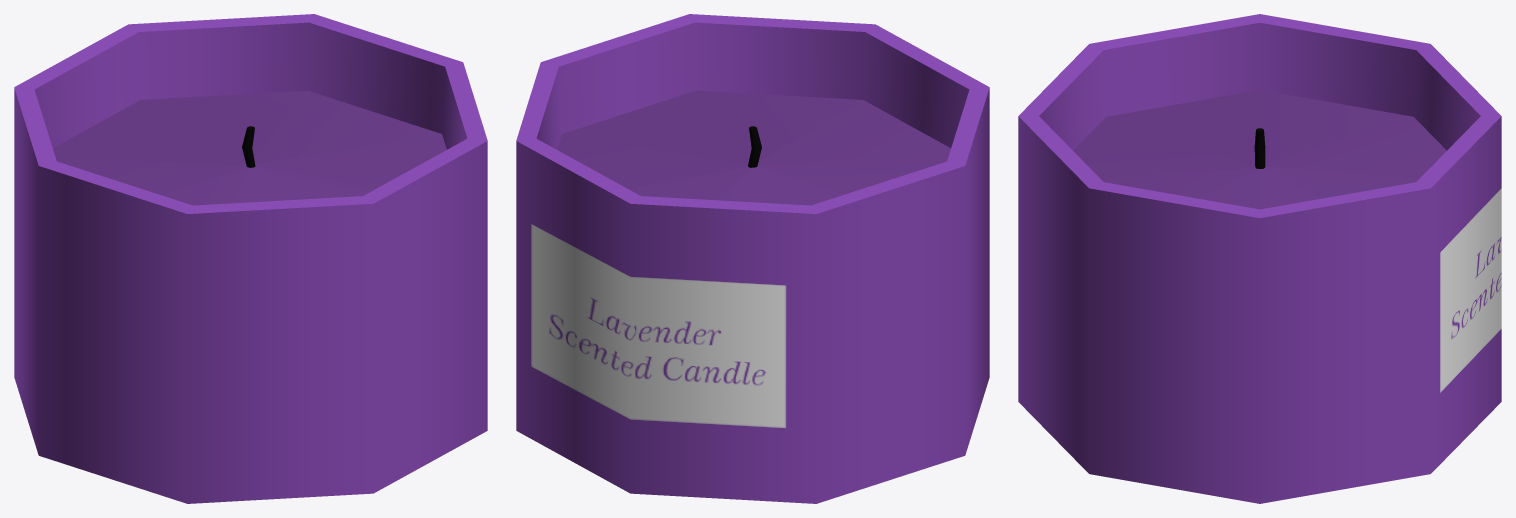
File: furniture_decor_210013.glb
3 views of the same model, side by side, from view 1: azimuth 30°, elevation 25°; view 2: azimuth 150°, elevation 25°; view 3: azimuth 270°, elevation 25° (orthographic).
Visible parts, largest first — view 1: furniture_decor_210013; view 2: furniture_decor_210013; view 3: furniture_decor_210013.
Boxes of the visible parts, <box> form: furniture_decor_210013: <box>14,14,487,503</box>; furniture_decor_210013: <box>516,14,989,503</box>; furniture_decor_210013: <box>1018,14,1501,503</box>.
Size of the model in its own units: 0.1295 by 0.0845 by 0.1295.
1 material, 1 textured.
